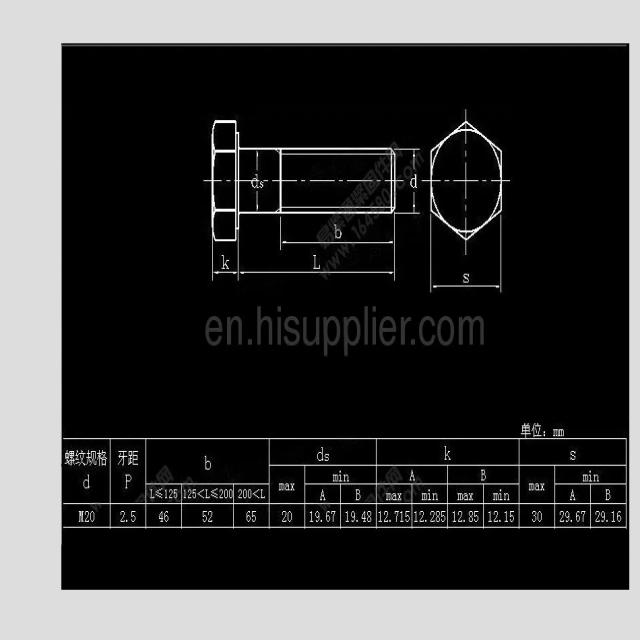marking_line: (237, 242, 398, 281), (278, 215, 397, 252), (428, 240, 503, 294), (397, 147, 421, 215), (211, 242, 241, 282), (254, 150, 261, 211)
numeric: (130, 510, 137, 524), (281, 509, 287, 524), (250, 511, 258, 522), (208, 511, 215, 523), (314, 511, 321, 523), (325, 509, 331, 523), (89, 511, 96, 523), (287, 510, 293, 523), (383, 510, 389, 523), (493, 510, 499, 523), (509, 510, 515, 523), (580, 510, 586, 523), (218, 488, 224, 500), (350, 511, 356, 523), (457, 510, 463, 522), (617, 509, 622, 523), (85, 509, 90, 523), (173, 488, 179, 499), (367, 511, 373, 522), (158, 510, 163, 523), (394, 510, 399, 523), (413, 510, 418, 523), (435, 510, 440, 523), (474, 510, 479, 523), (532, 510, 537, 523), (537, 510, 542, 523), (576, 510, 581, 523), (120, 510, 125, 522), (164, 510, 169, 522), (164, 487, 169, 499), (202, 510, 207, 522), (246, 510, 251, 522), (309, 511, 314, 523), (331, 510, 336, 522), (345, 511, 350, 523), (405, 510, 410, 522), (419, 511, 424, 523), (430, 510, 435, 522), (441, 511, 446, 523), (468, 510, 473, 522), (565, 511, 570, 523), (595, 511, 600, 523), (601, 510, 605, 524), (169, 488, 174, 499), (187, 488, 192, 499), (228, 488, 233, 499), (361, 511, 366, 522), (559, 511, 564, 522), (400, 511, 404, 524), (452, 510, 456, 523), (504, 510, 508, 523), (192, 489, 197, 499), (247, 489, 252, 499), (488, 510, 492, 522), (224, 488, 228, 499), (238, 487, 242, 498), (378, 512, 382, 523), (243, 489, 247, 499), (612, 512, 615, 523), (184, 489, 187, 499)
